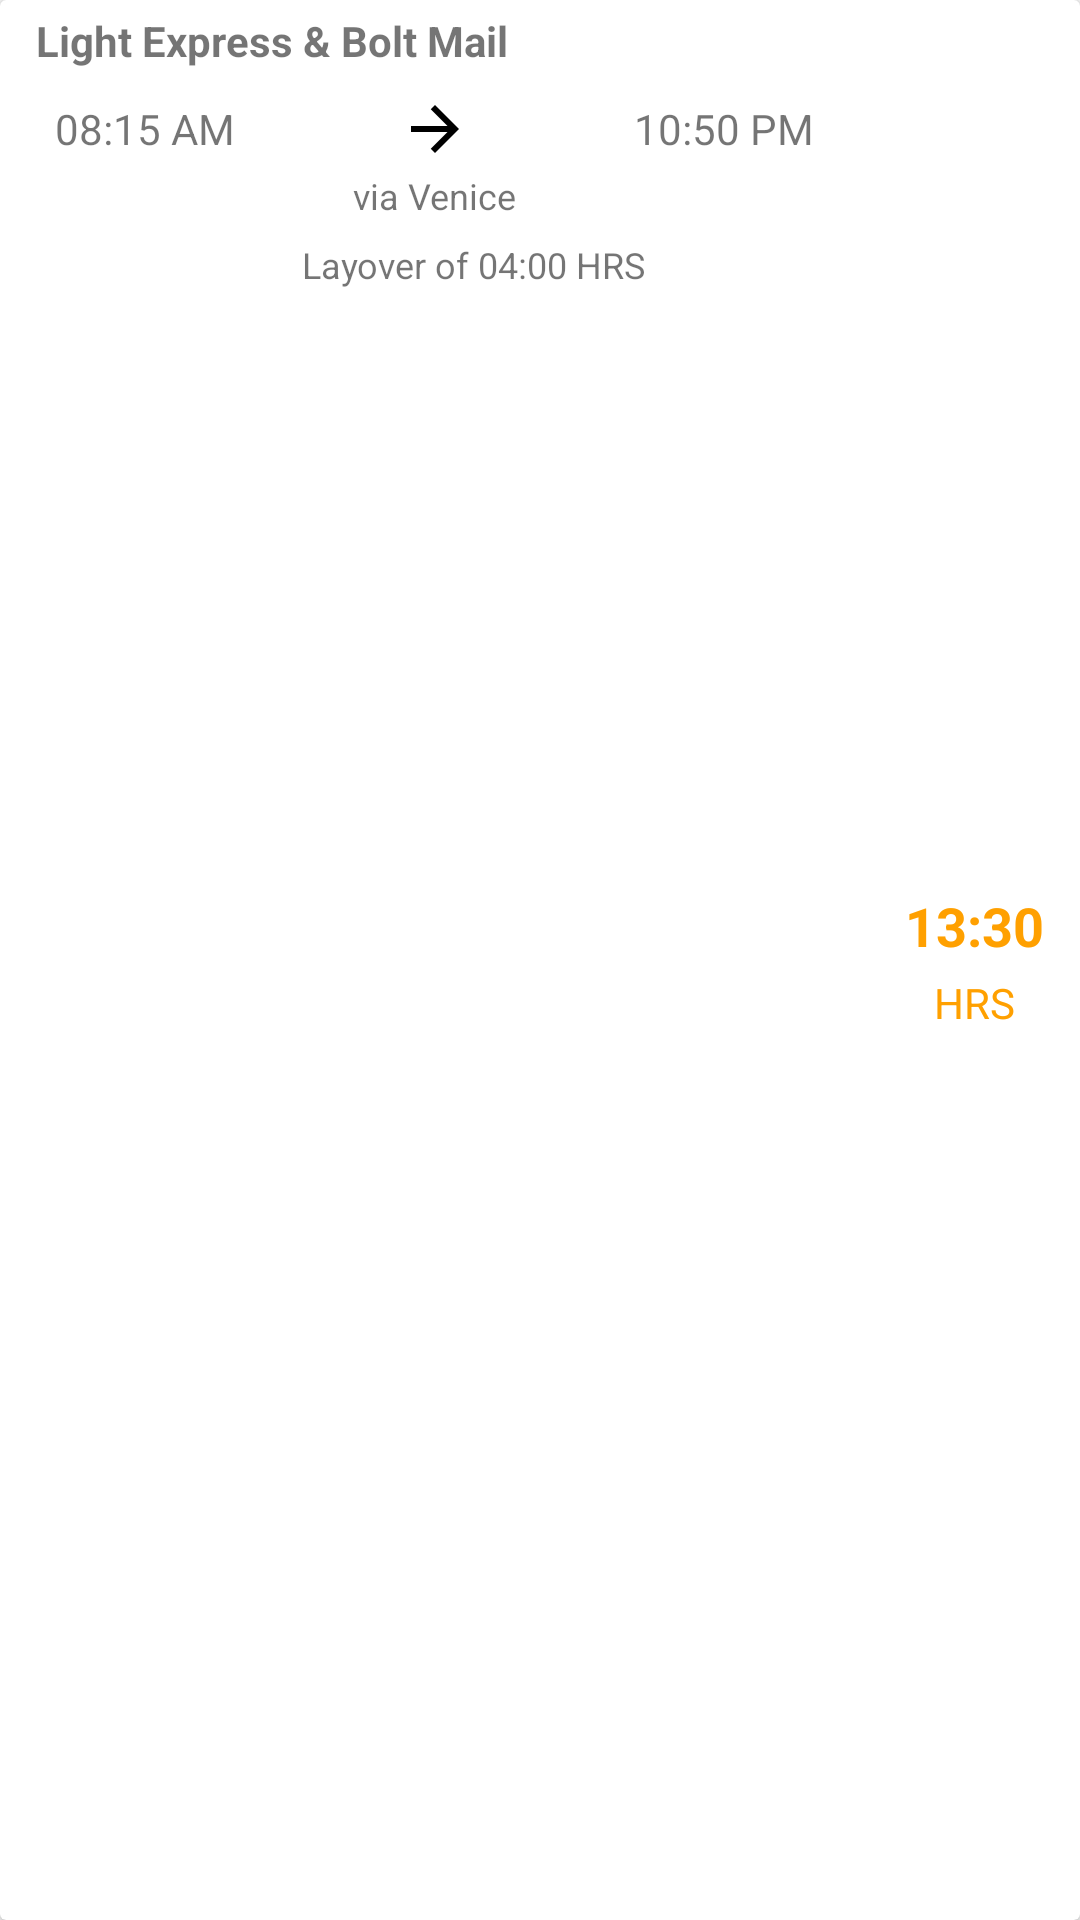

Where icons sit on this 1080w x 1920h app screen, as (x1,y1,x2,y2):
arrow forward: (411,105,459,153)
